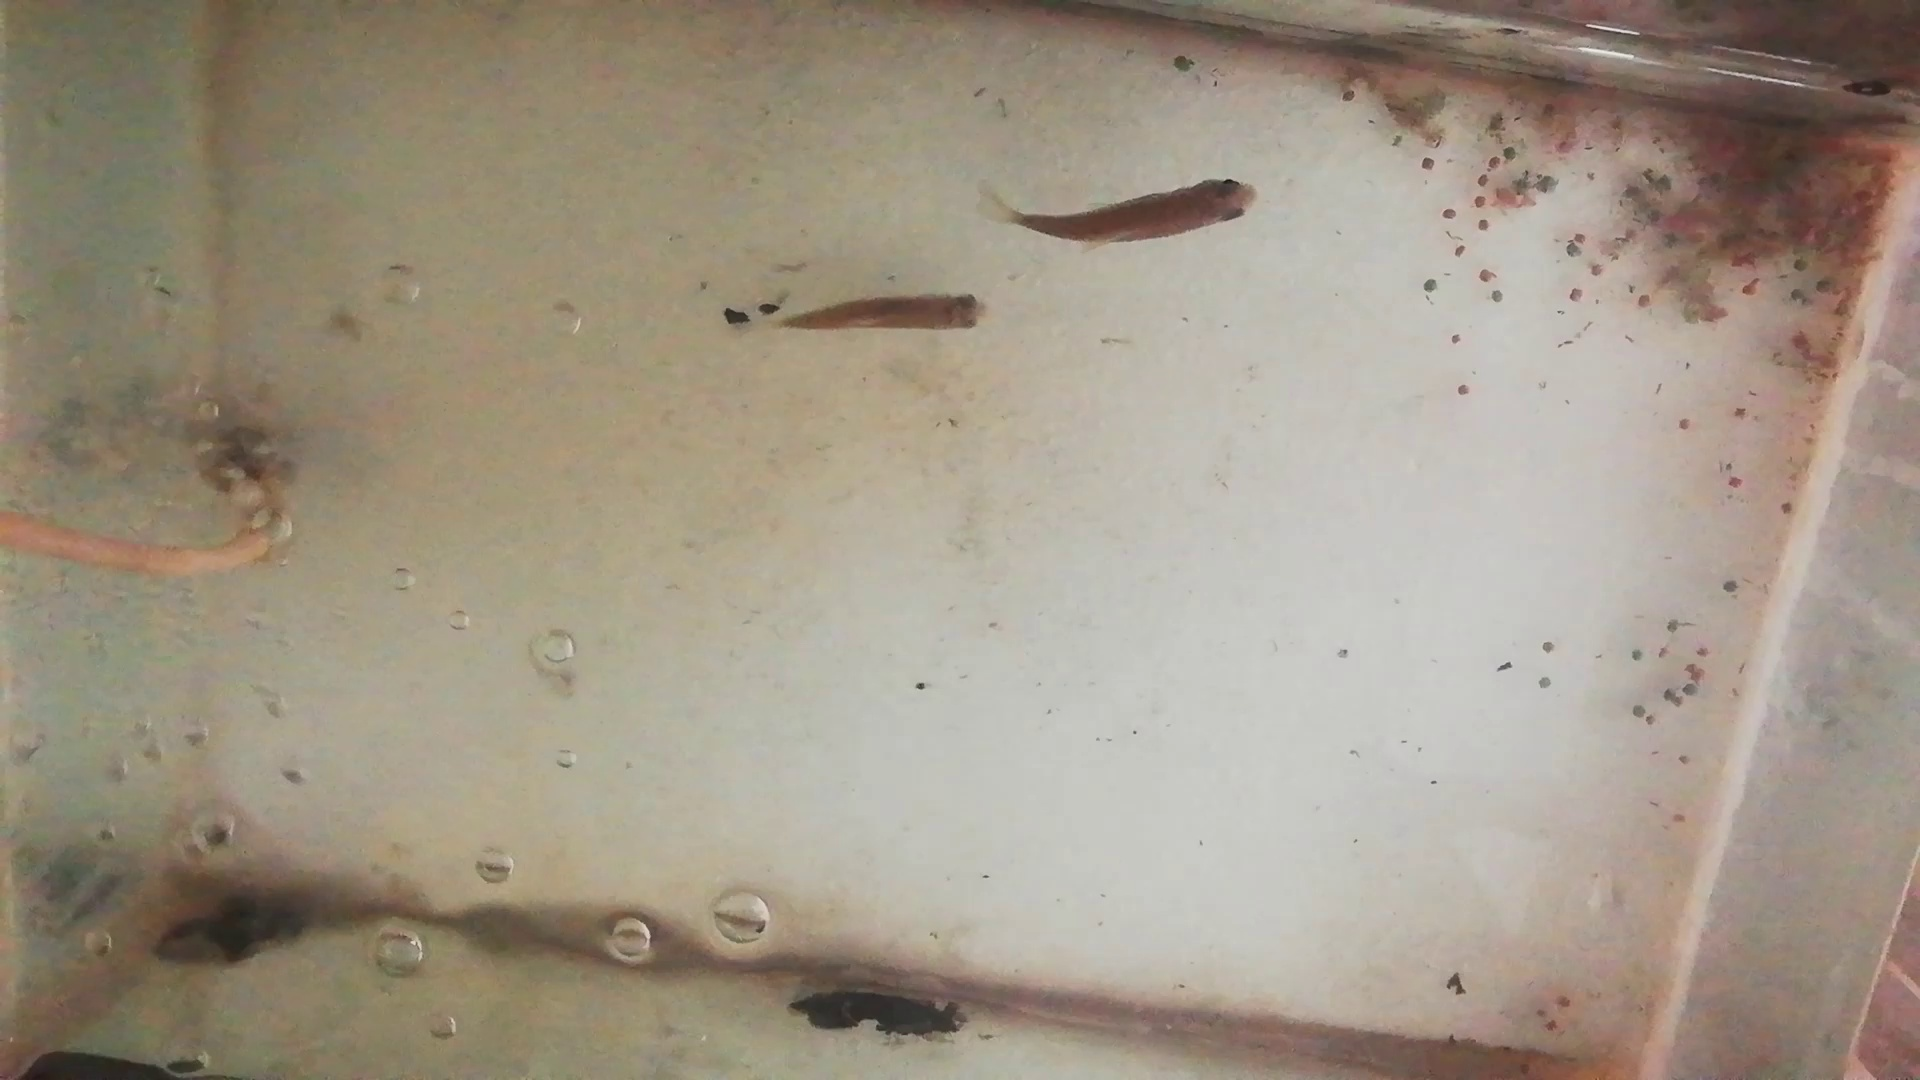fish: (1007, 177, 1265, 248), (771, 291, 996, 335)
